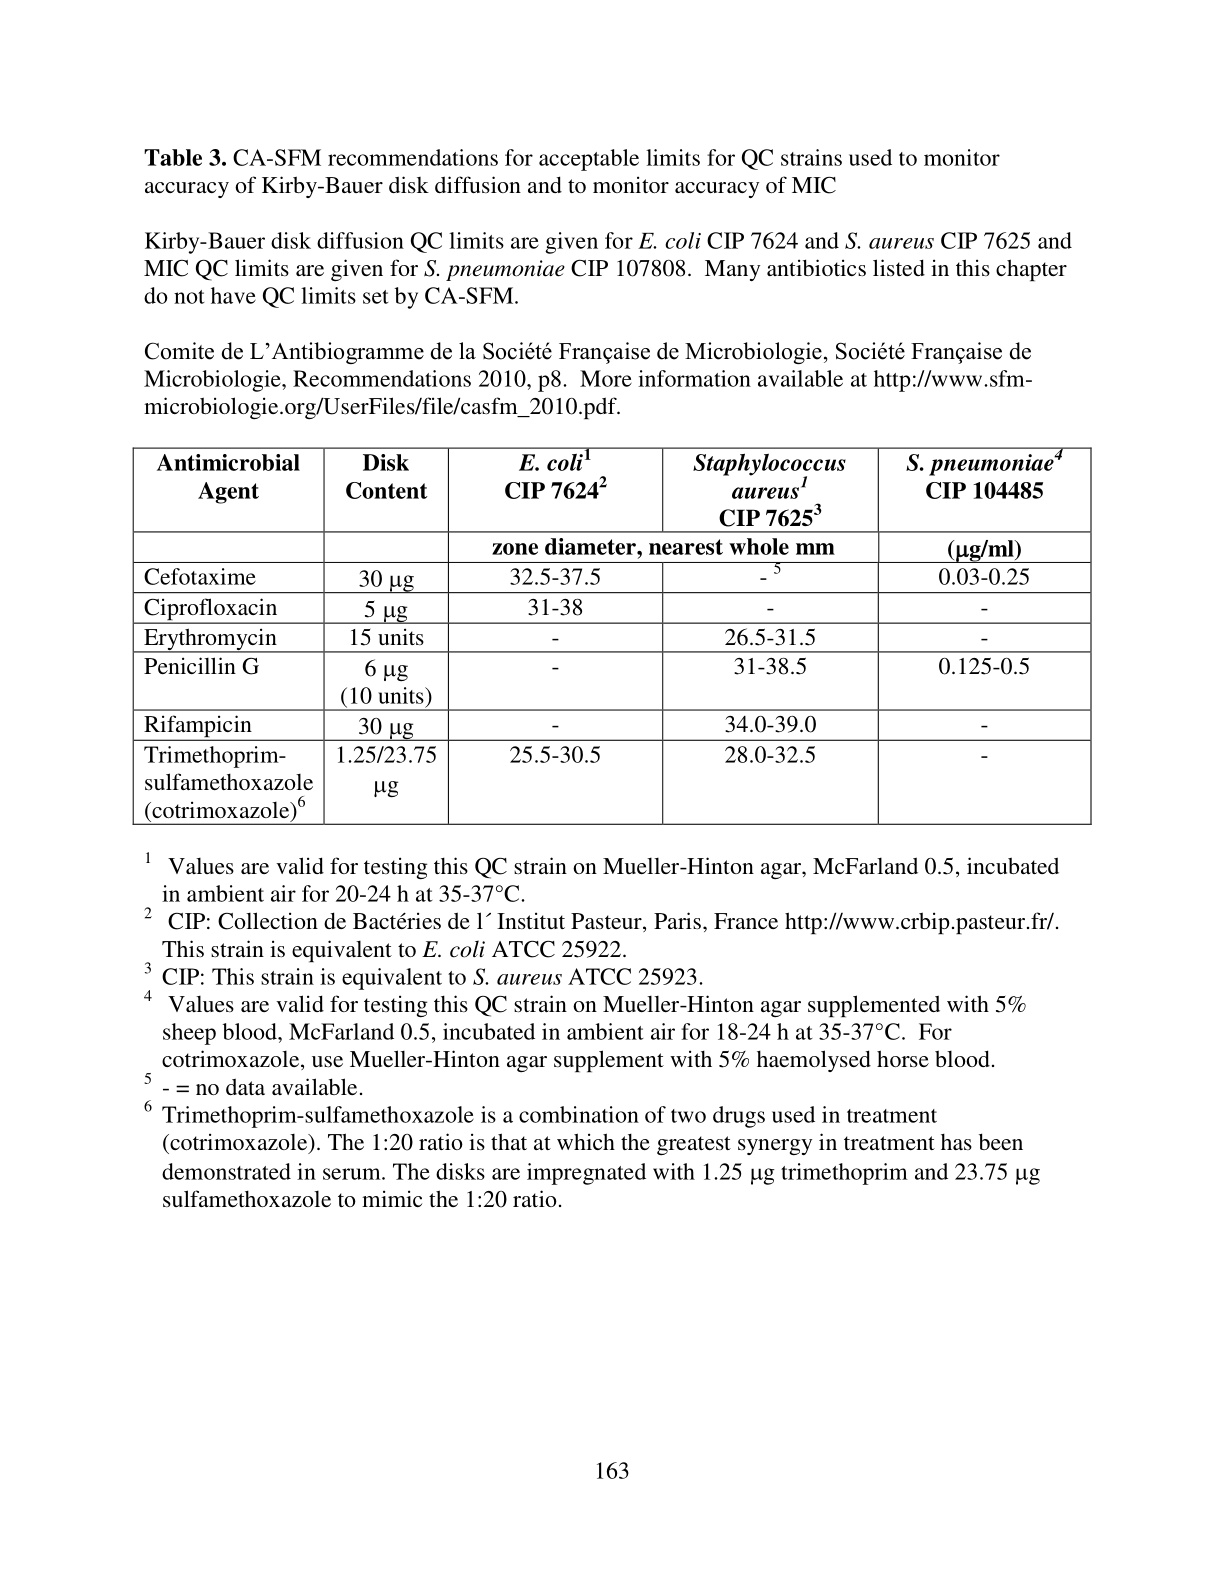merged_cells: (131, 446, 1092, 825)
